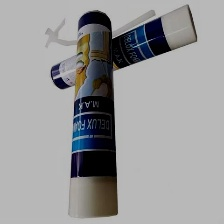aerosol_cans: (49, 2, 198, 91), (64, 7, 120, 221)
